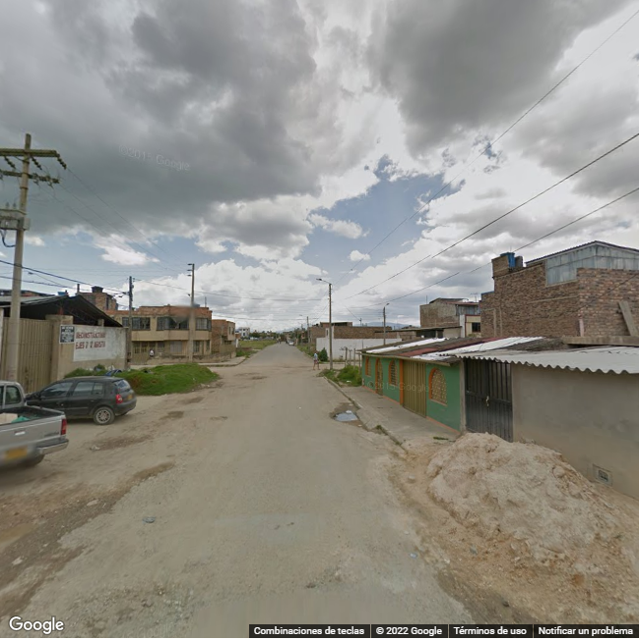D40: (66, 581, 171, 629)
